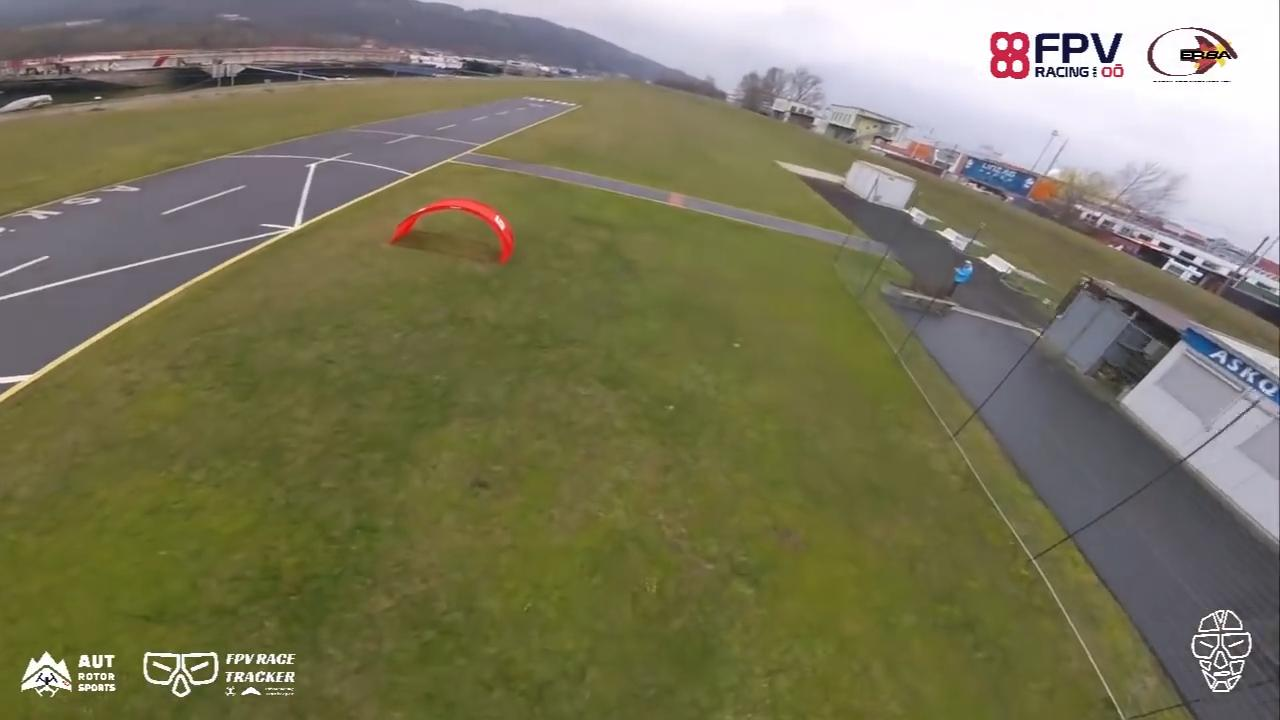gate: (388, 198, 516, 267)
